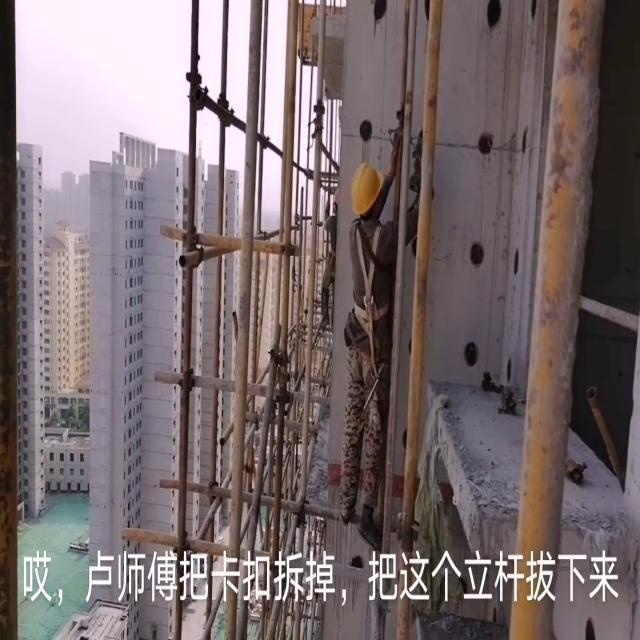Arnes_seguridad: (347, 214, 391, 337)
